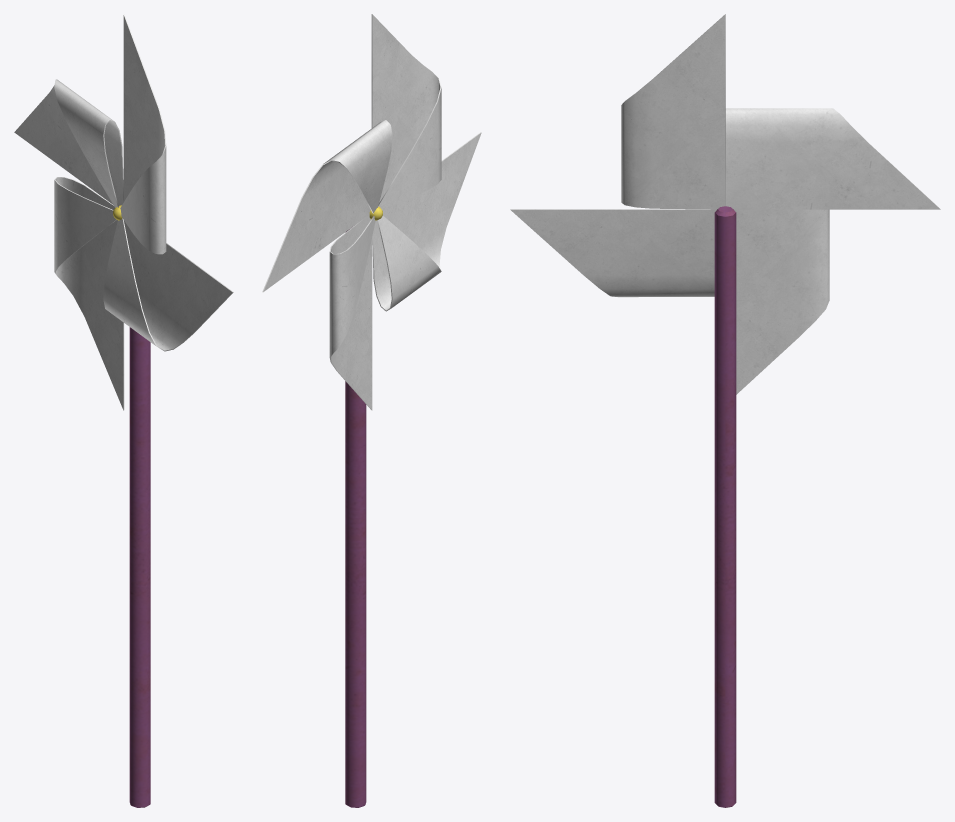
File: Pinwheel_03.fbx
3 renders of one model, left to right at view 1: azimuth 30°, elevation 25°; view 2: azimuth 150°, elevation 25°; view 3: azimuth 270°, elevation 25°, orthographic.
Visible parts, largest first — view 1: Pinwheel_Blades.003, Pinwheel_Handle; view 2: Pinwheel_Blades.003, Pinwheel_Handle; view 3: Pinwheel_Blades.003, Pinwheel_Handle.
Part boxes in pixels (bbox=[...]): Pinwheel_Blades.003: bbox=[14, 14, 233, 410]; Pinwheel_Handle: bbox=[129, 327, 150, 807]; Pinwheel_Blades.003: bbox=[262, 14, 481, 410]; Pinwheel_Handle: bbox=[345, 229, 366, 807]; Pinwheel_Blades.003: bbox=[510, 14, 940, 394]; Pinwheel_Handle: bbox=[714, 206, 736, 807].
Size of the model in its own units: 0.2442 by 2 by 4.01.
